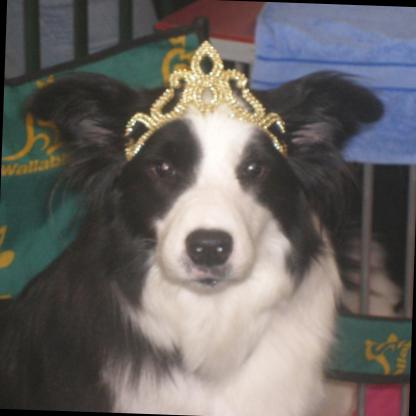Border_collie: (0, 27, 397, 416)
